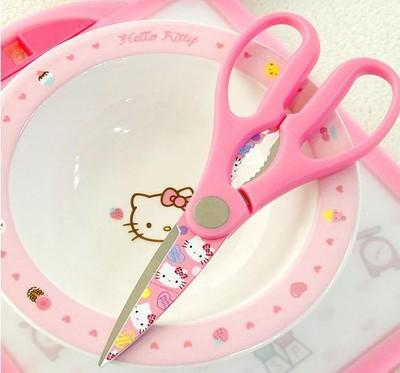scissor: (81, 14, 397, 359)
